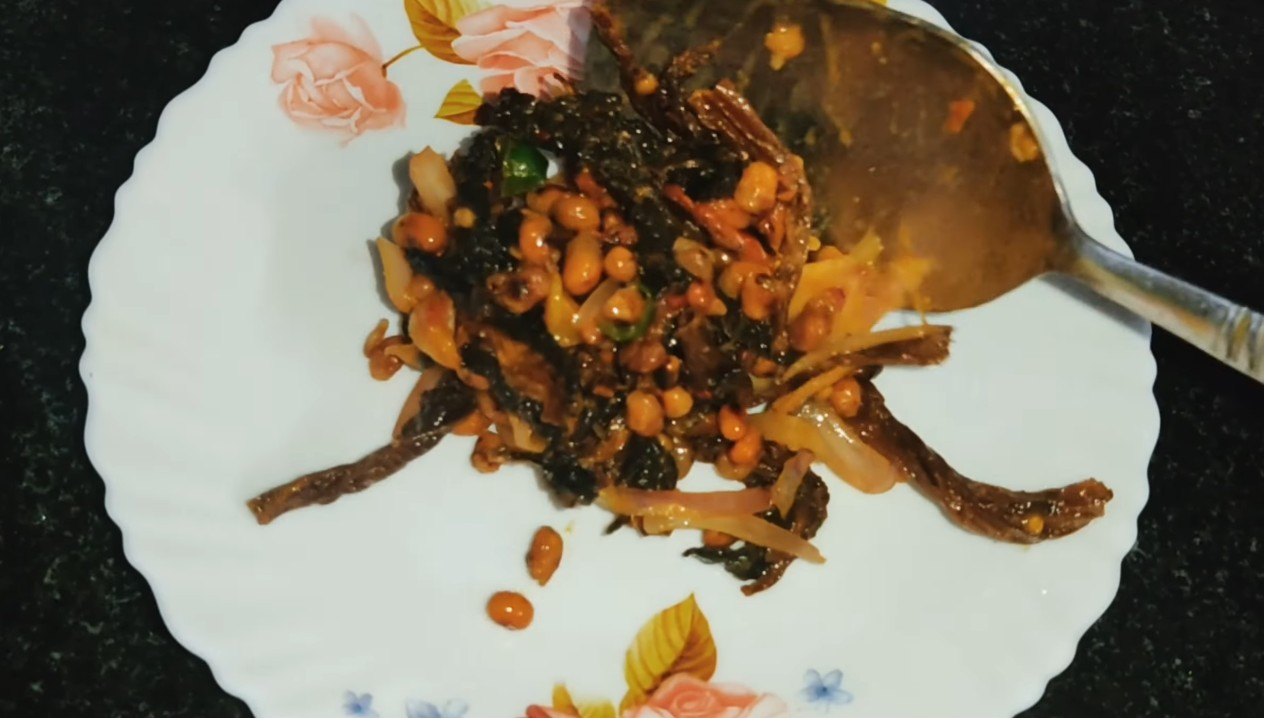gundruk: (388, 65, 903, 513)
